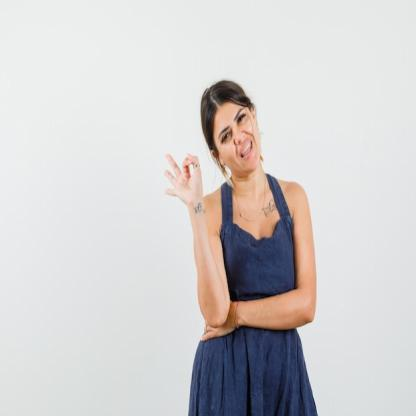ok: (160, 146, 204, 206)
